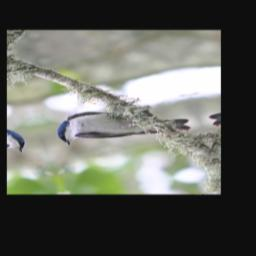Swallow: (49, 97, 195, 151)
